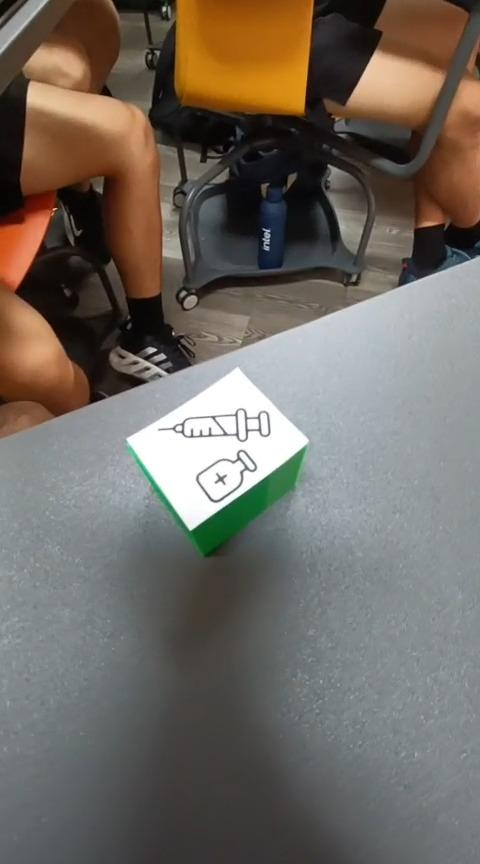antiseptic cream: (124, 365, 309, 558)
